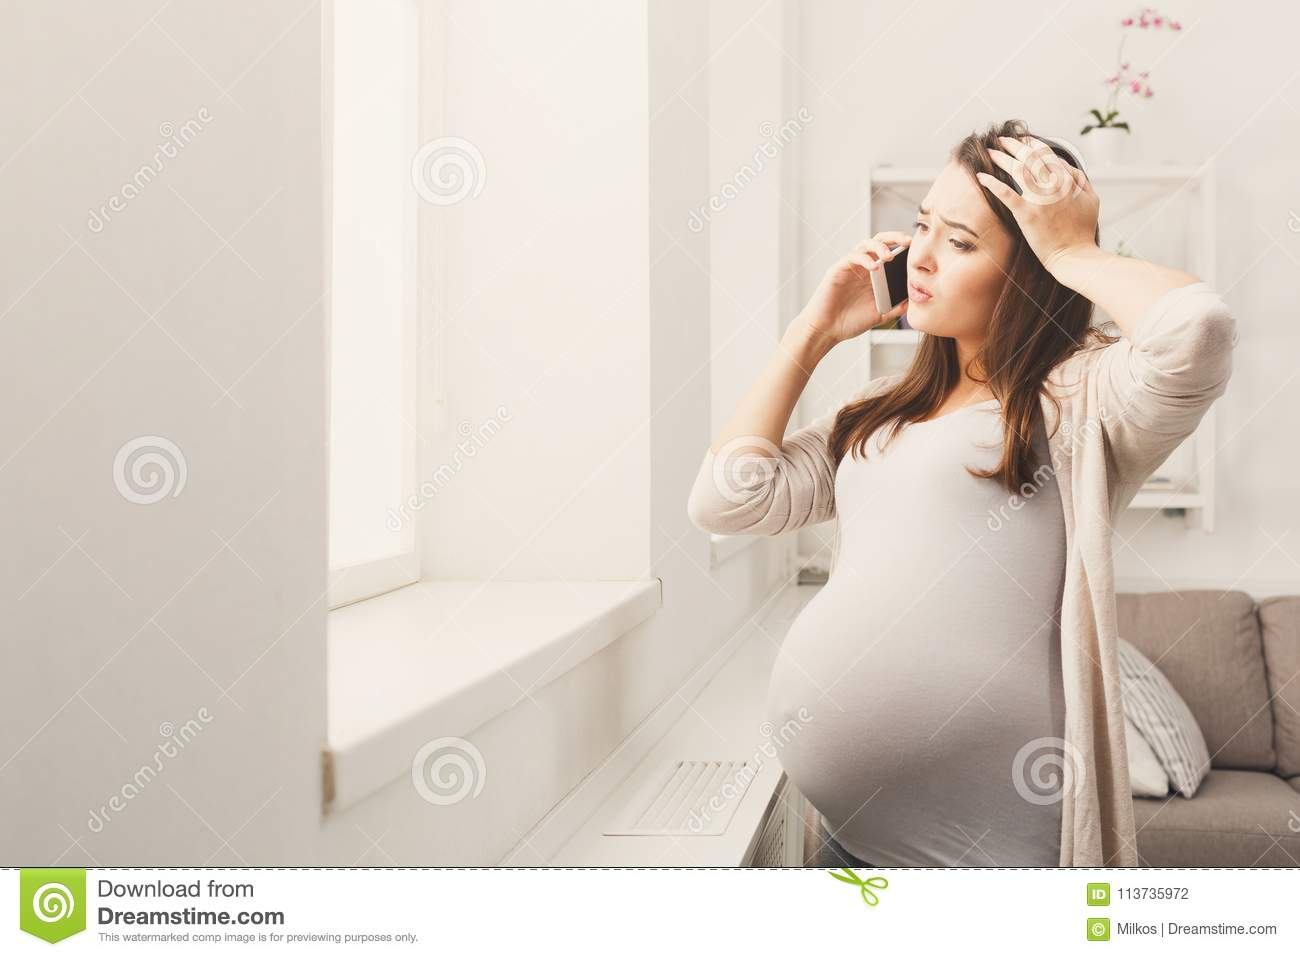phone: (867, 242, 909, 320)
talk: (789, 203, 992, 355)
